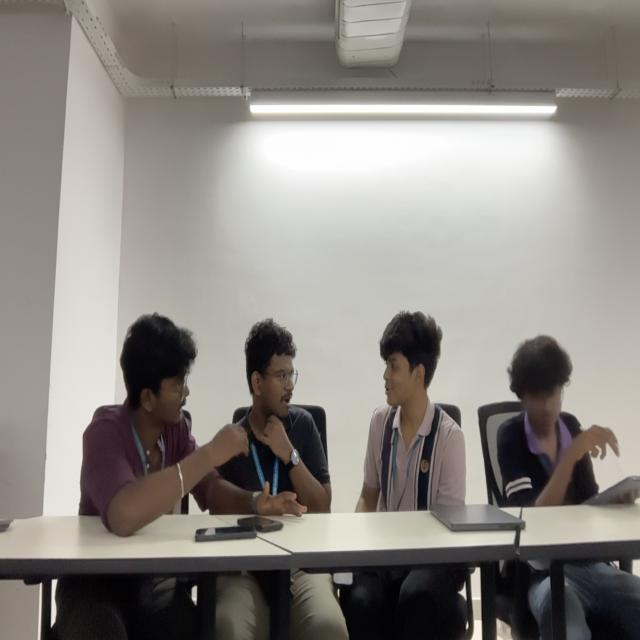Isolated: (498, 336, 622, 506)
socializing: (75, 299, 467, 536)
